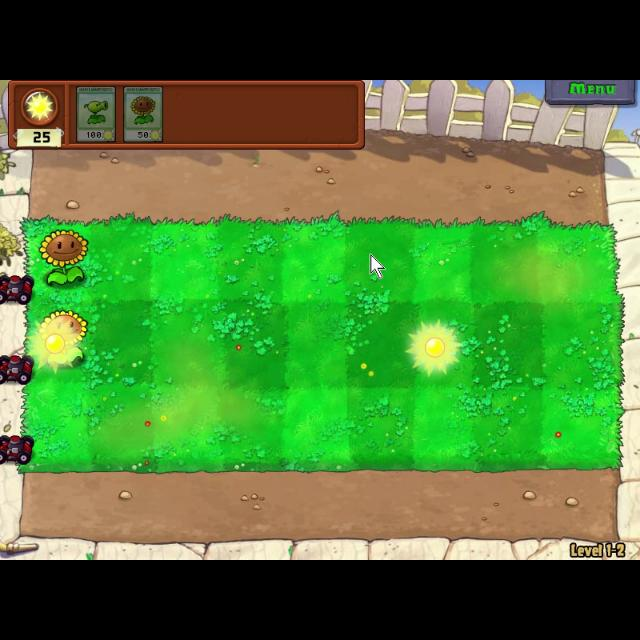Garden: (17, 213, 625, 477)
Menu Button: (544, 80, 638, 106)
Mower: (0, 429, 38, 466), (0, 272, 38, 306), (0, 349, 34, 387)
Peashooter: (75, 85, 117, 143)
Seed Panel: (7, 80, 369, 154)
Sun: (25, 310, 87, 378), (402, 314, 466, 378)
Sunflower: (123, 84, 163, 142)
Sunflower Seed: (36, 310, 94, 370), (40, 228, 90, 288)
